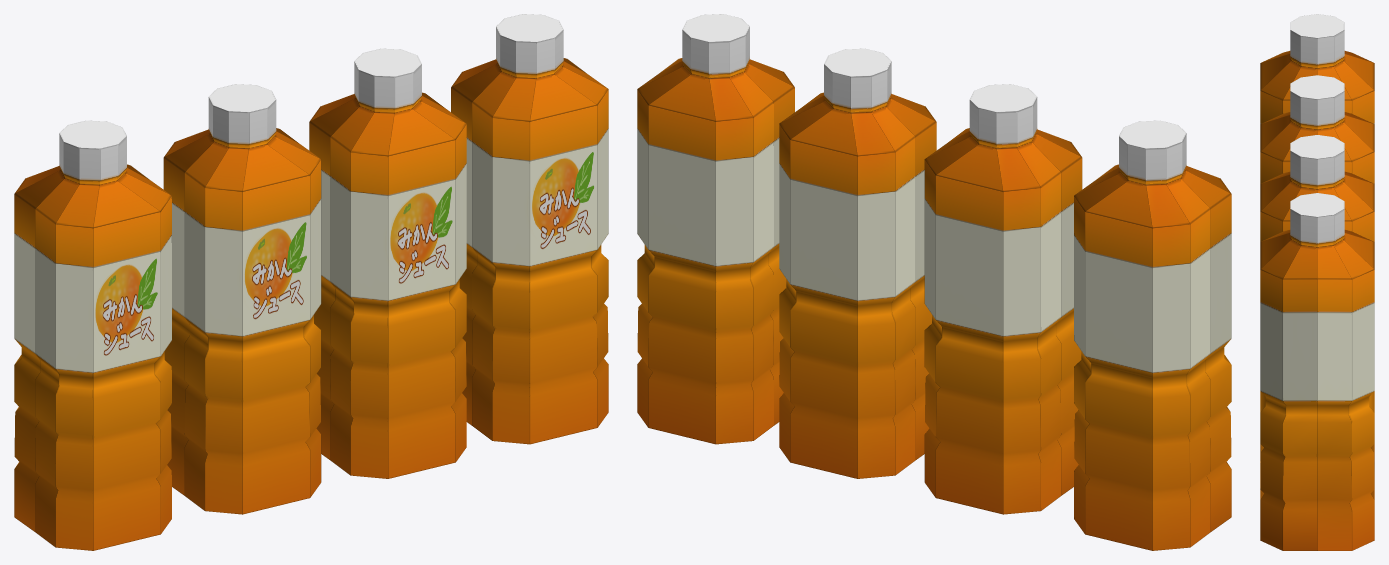
Rendered from drink_F3_box.fbx.
3 renders of one model, left to right at view 1: azimuth 30°, elevation 25°; view 2: azimuth 150°, elevation 25°; view 3: azimuth 270°, elevation 25°, orthographic. The views are drawn at different scales.
Parts seen in each view (by area): view 1: drink_F3_box; view 2: drink_F3_box; view 3: drink_F3_box.
Part boxes in pixels (<box>): drink_F3_box: <box>14,14,608,550</box>; drink_F3_box: <box>637,14,1231,550</box>; drink_F3_box: <box>1260,14,1374,550</box>.
Bounding box in the file's own units: 133 × 88.37 × 28.37.
1 material, 1 textured.
